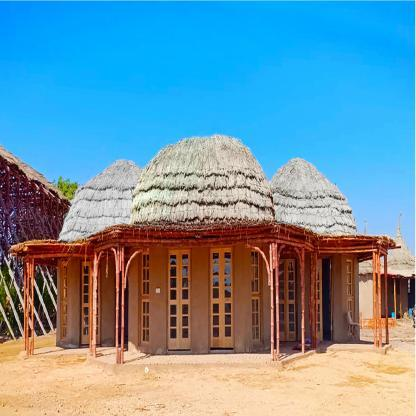Building Outline: (7, 135, 397, 365)
Dont: (347, 310, 360, 342)
Door: (313, 259, 332, 342)
Door Hole: (115, 263, 129, 349)
Facade: (57, 240, 359, 355)
Ground Floor: (57, 240, 359, 355)
Pillar: (245, 243, 286, 361), (111, 247, 143, 364), (91, 250, 104, 358), (293, 247, 305, 354), (372, 251, 382, 349), (24, 258, 34, 356), (310, 252, 318, 349), (384, 254, 389, 344)
Roof: (7, 135, 397, 258)
Window: (211, 249, 234, 350), (168, 249, 191, 350), (81, 261, 101, 345), (276, 259, 296, 341), (141, 252, 150, 346), (251, 249, 260, 343), (347, 259, 355, 338), (60, 262, 67, 342)
